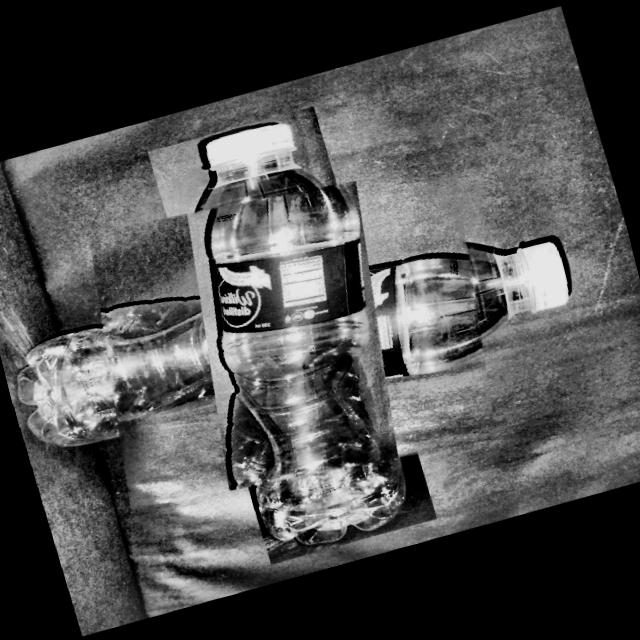Plastic-Bottle: (56, 138, 524, 530)
